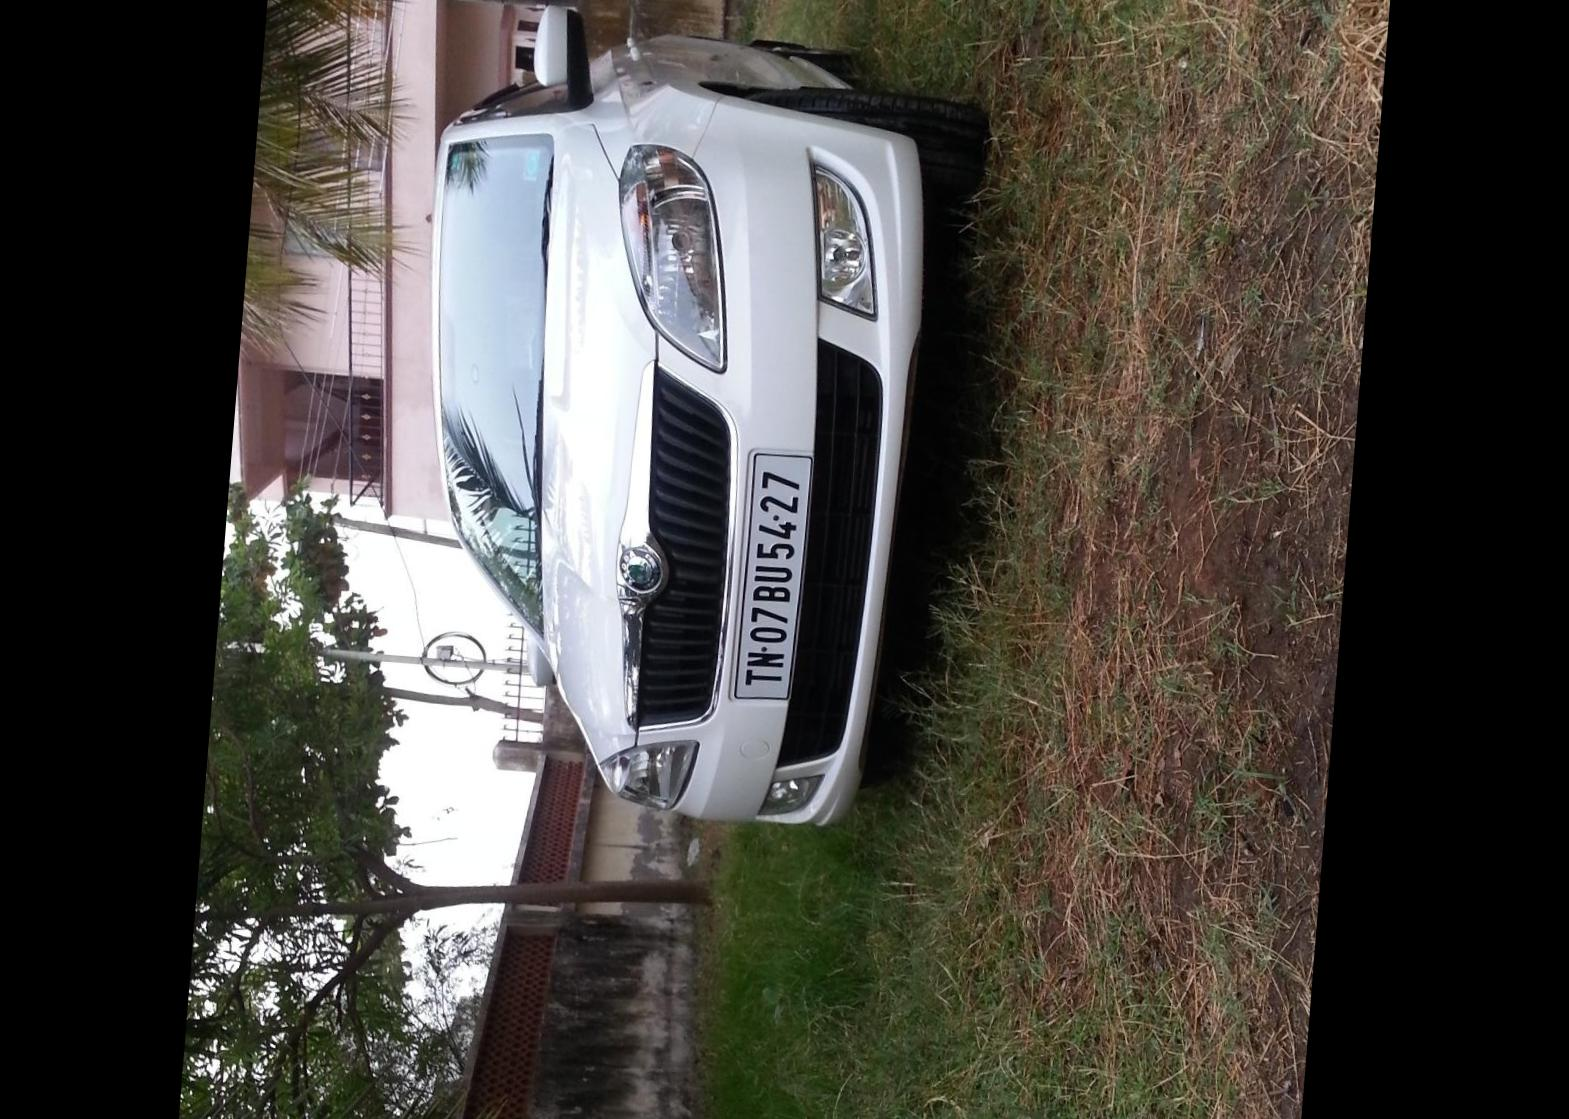plate: (721, 447, 811, 700)
